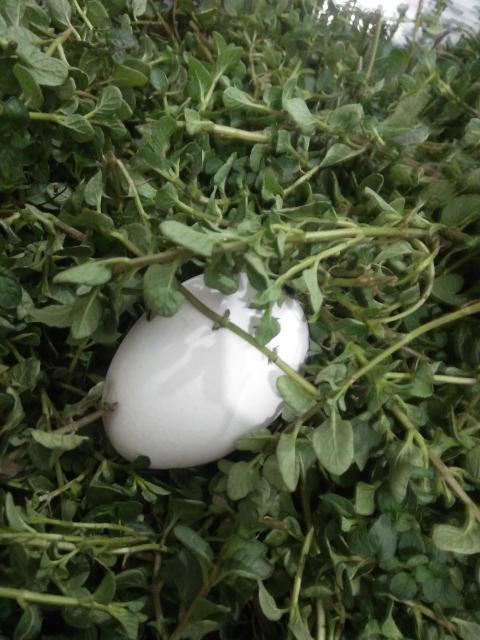Sano: (103, 270, 308, 469)
